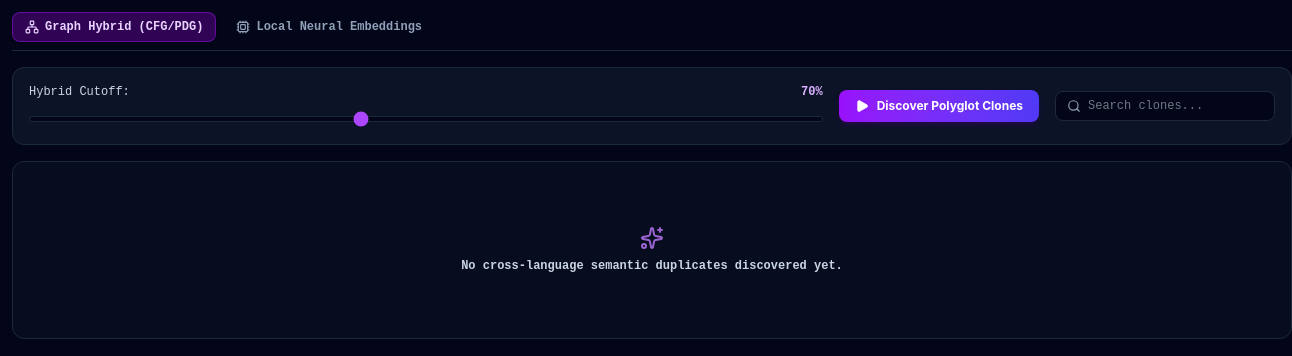
Test case: CrossLanguageExplorerTab › renders neural scan results table when pairs exist in store
// Switch to neural mode
Click the button "Local Neural Embeddings" at (329,27), box [224, 13, 434, 41]
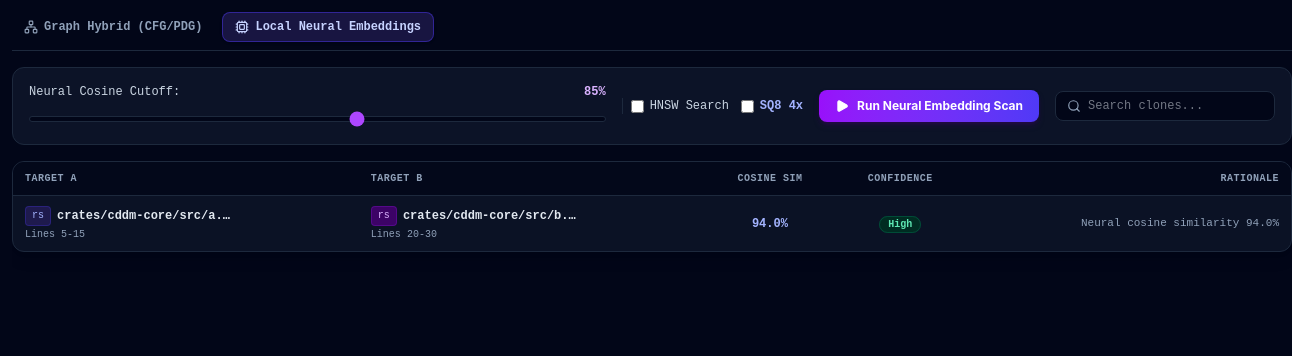
Now the text "crates/cddm-core/src/a.rs" is shown, box [57, 208, 237, 224]
Now the text "crates/cddm-core/src/b.rs" is shown, box [403, 208, 583, 224]
Now the text "94.0%" is shown, box [705, 196, 835, 251]
